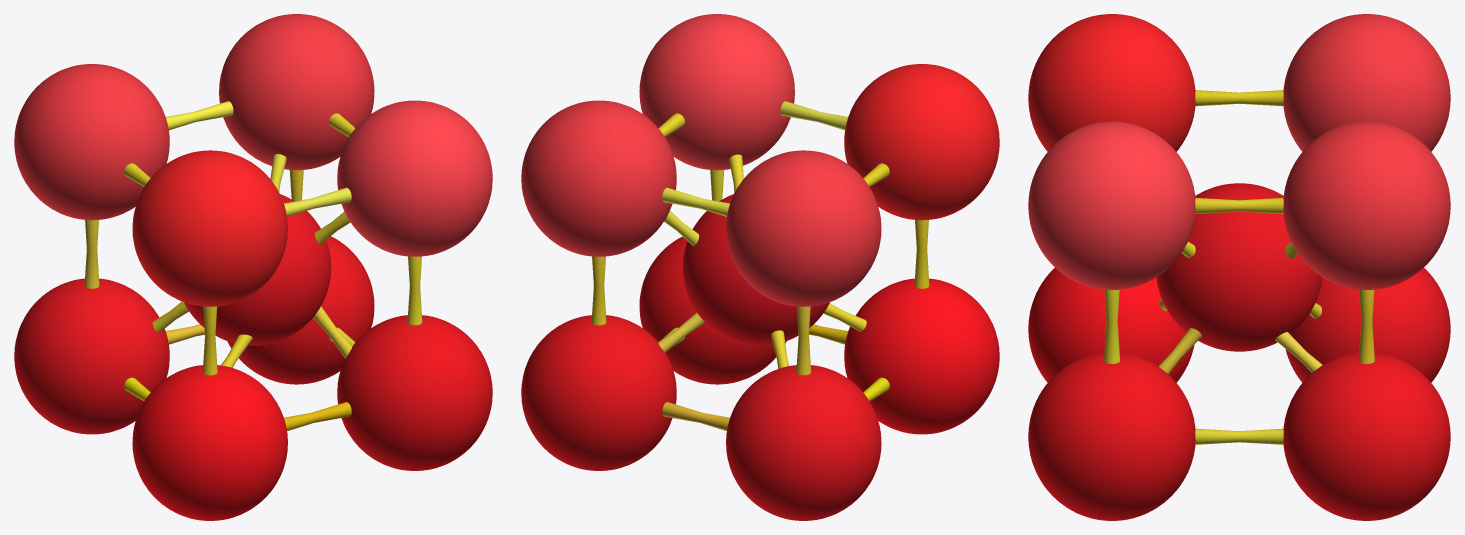
The model's file is SEL SATUAN BCC.fbx.
The picture shows the model from 3 angles, left to right: view 1: azimuth 30°, elevation 25°; view 2: azimuth 150°, elevation 25°; view 3: azimuth 270°, elevation 25°; orthographic projection. The views are drawn at different scales.
Parts seen in each view (by area): view 1: Sphere.003, Sphere.004, Sphere.002, Sphere.008, Sphere, Sphere.005, Sphere.001, Sphere.007, Sphere.006, Cylinder.008, Cylinder.003, Cylinder.005 (+4 smaller); view 2: Sphere, Sphere.005, Sphere.001, Sphere.006, Sphere.003, Sphere.004, Sphere.002, Sphere.007, Sphere.008, Cylinder.006, Cylinder.003, Cylinder.005 (+4 smaller); view 3: Sphere.001, Sphere.002, Sphere.006, Sphere.008, Sphere.007, Sphere, Sphere.003, Sphere.004, Sphere.005, Cylinder.004, Cylinder.015, Cylinder.014 (+4 smaller).
Part boxes in pixels (bbox=[...]): Sphere.003: bbox=[132, 150, 287, 306]; Sphere.004: bbox=[132, 365, 287, 520]; Sphere.002: bbox=[337, 100, 492, 256]; Sphere.008: bbox=[337, 315, 492, 470]; Sphere: bbox=[14, 64, 169, 220]; Sphere.005: bbox=[14, 278, 169, 434]; Sphere.001: bbox=[219, 14, 374, 170]; Sphere.007: bbox=[184, 194, 331, 345]; Sphere.006: bbox=[227, 236, 374, 384]; Cylinder.008: bbox=[407, 256, 422, 325]; Cylinder.003: bbox=[202, 306, 217, 375]; Cylinder.005: bbox=[84, 220, 99, 288]; Sphere: bbox=[726, 150, 881, 306]; Sphere.005: bbox=[726, 365, 881, 520]; Sphere.001: bbox=[521, 100, 676, 256]; Sphere.006: bbox=[521, 315, 676, 470]; Sphere.003: bbox=[844, 64, 999, 220]; Sphere.004: bbox=[844, 278, 999, 434]; Sphere.002: bbox=[639, 14, 794, 170]; Sphere.007: bbox=[682, 194, 829, 345]; Sphere.008: bbox=[639, 236, 786, 384]; Cylinder.006: bbox=[591, 256, 606, 325]; Cylinder.003: bbox=[914, 220, 929, 288]; Cylinder.005: bbox=[796, 306, 811, 375]; Sphere.001: bbox=[1283, 121, 1450, 289]; Sphere.002: bbox=[1028, 121, 1195, 289]; Sphere.006: bbox=[1283, 353, 1450, 520]; Sphere.008: bbox=[1028, 353, 1195, 520]; Sphere.007: bbox=[1156, 183, 1322, 351]; Sphere: bbox=[1283, 14, 1450, 151]; Sphere.003: bbox=[1028, 14, 1195, 151]; Sphere.004: bbox=[1028, 268, 1194, 382]; Sphere.005: bbox=[1285, 268, 1450, 382]; Cylinder.004: bbox=[1195, 428, 1283, 444]; Cylinder.015: bbox=[1195, 90, 1283, 106]; Cylinder.014: bbox=[1195, 197, 1283, 213].
Bounding box in the file's own units: 4974 × 4995 × 4974.
